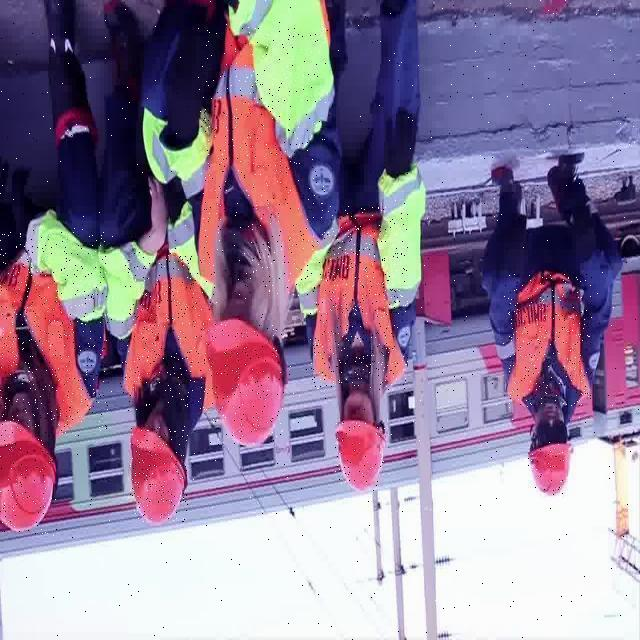Helmet: (208, 322, 284, 444), (1, 420, 58, 536), (130, 426, 188, 522), (336, 422, 388, 488), (528, 442, 572, 494)
Vest: (198, 26, 326, 296), (0, 228, 108, 436), (310, 206, 408, 390), (120, 252, 212, 410), (508, 273, 592, 408)
